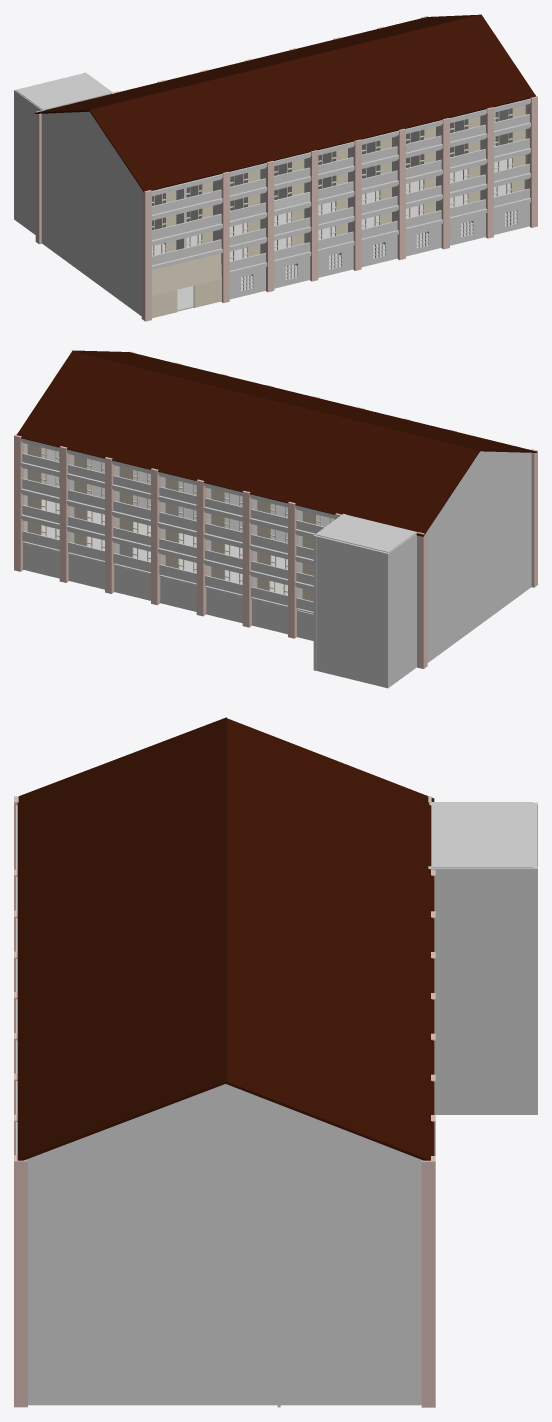
The model's file is house.fbx.
3 renders of one model, top to bottom at view 1: azimuth 30°, elevation 25°; view 2: azimuth 150°, elevation 25°; view 3: azimuth 270°, elevation 25°, orthographic. The views are drawn at different scales.
Visible parts, largest first — view 1: 立方体.316, 立方体.001, 立方体.317, 立方体, 立方体.010, 立方体.319, 立方体.032, Cube, Cube.004, Cube.005, Cube.006, Cube.007 (+35 smaller); view 2: 立方体.317, 立方体.001, 立方体.318, 立方体.316, 立方体.010, 立方体.319, 立方体.005, Cube.002, Cube.015, Cube.012, Cube.003, Cube.013 (+27 smaller); view 3: 立方体.002, 立方体.316, 立方体.317, 立方体.029, 立方体.319, Cube.016, Cube.010.
Boxes of the visible parts, bbox=[...] form: 立方体.316: bbox=[89, 14, 536, 192]; 立方体.001: bbox=[41, 111, 141, 315]; 立方体.317: bbox=[35, 14, 478, 113]; 立方体: bbox=[152, 253, 221, 318]; 立方体.010: bbox=[14, 89, 44, 234]; 立方体.319: bbox=[16, 73, 112, 110]; 立方体.032: bbox=[152, 145, 511, 255]; Cube: bbox=[141, 190, 151, 321]; Cube.004: bbox=[264, 161, 274, 292]; Cube.005: bbox=[308, 150, 318, 281]; Cube.006: bbox=[351, 139, 361, 270]; Cube.007: bbox=[395, 128, 405, 260]; 立方体.317: bbox=[17, 351, 480, 536]; 立方体.001: bbox=[427, 451, 531, 662]; 立方体.318: bbox=[316, 535, 386, 687]; 立方体.316: bbox=[72, 350, 536, 452]; 立方体.010: bbox=[385, 532, 417, 688]; 立方体.319: bbox=[315, 514, 416, 552]; 立方体.005: bbox=[23, 525, 313, 613]; Cube.002: bbox=[417, 531, 427, 668]; Cube.015: bbox=[59, 446, 70, 582]; Cube.012: bbox=[196, 479, 206, 616]; Cube.003: bbox=[242, 490, 252, 627]; Cube.013: bbox=[151, 468, 161, 605]; 立方体.002: bbox=[24, 1084, 422, 1405]; 立方体.316: bbox=[17, 717, 227, 1160]; 立方体.317: bbox=[226, 718, 434, 1160]; 立方体.029: bbox=[428, 866, 537, 1114]; 立方体.319: bbox=[431, 802, 533, 867]; Cube.016: bbox=[421, 1156, 435, 1407]; Cube.010: bbox=[14, 1155, 27, 1407].
Size of the model in its own units: 24738 by 10368 by 15027.
